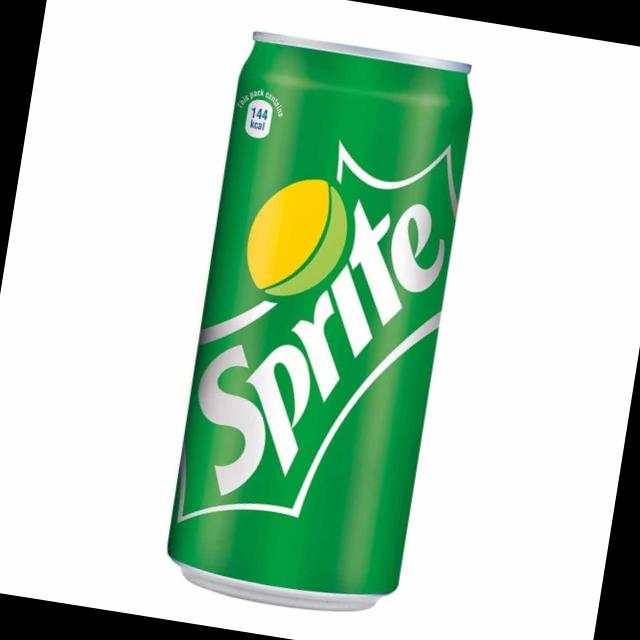sprite: (148, 19, 486, 626)
